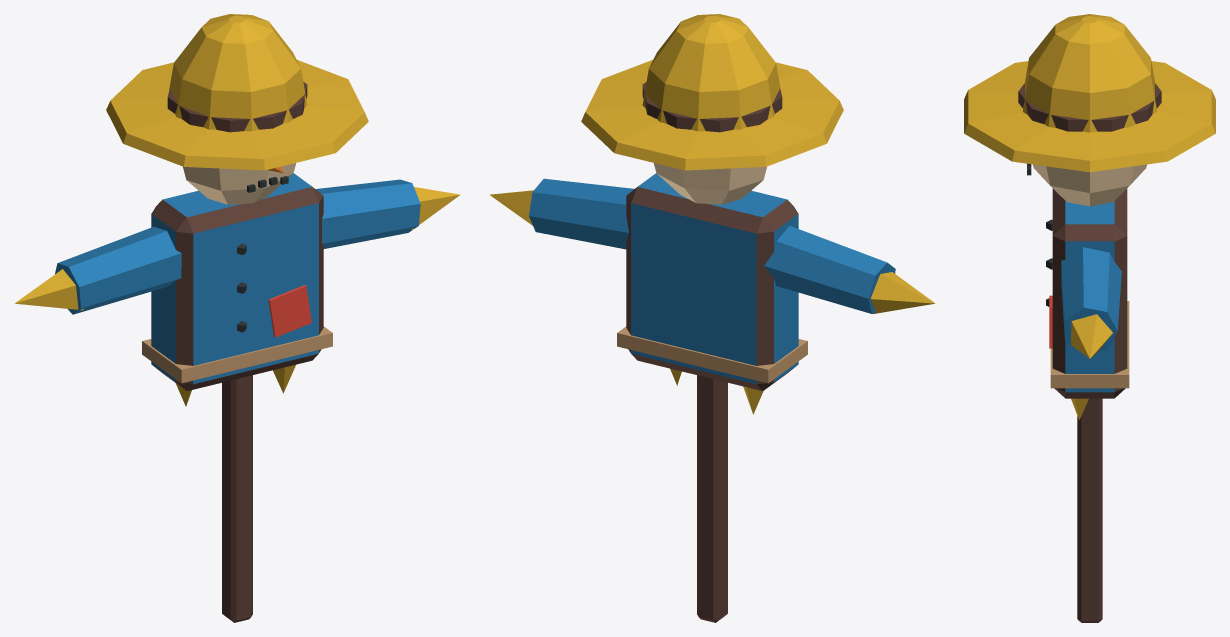
File: scarecrow.glb
3 renders of one model, left to right at view 1: azimuth 30°, elevation 25°; view 2: azimuth 150°, elevation 25°; view 3: azimuth 270°, elevation 25°, orthographic.
Parts seen in each view (by area): view 1: scarecrow-m; view 2: scarecrow-m; view 3: scarecrow-m.
Boxes of the visible parts, left/top/right/bottom form: scarecrow-m: left=14, top=14, right=460, bottom=622; scarecrow-m: left=489, top=14, right=935, bottom=622; scarecrow-m: left=964, top=14, right=1215, bottom=622.
Size of the model in its own units: 2.42 by 3.1 by 1.18.
